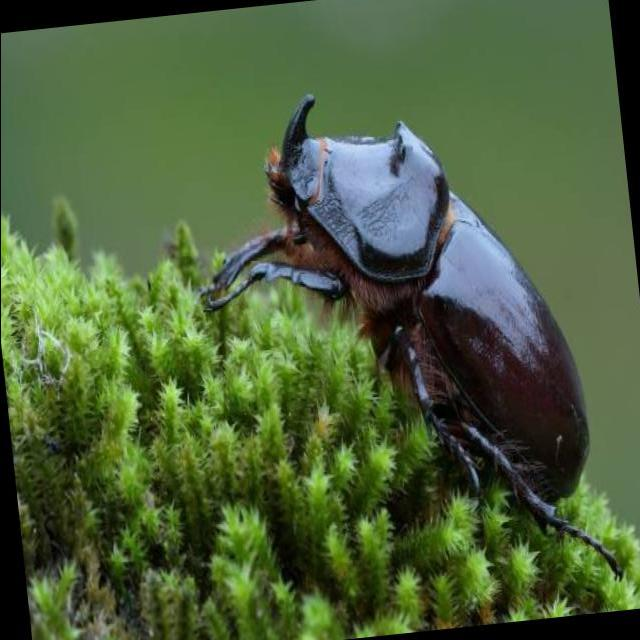Rhino-beetle: (205, 60, 618, 579)
